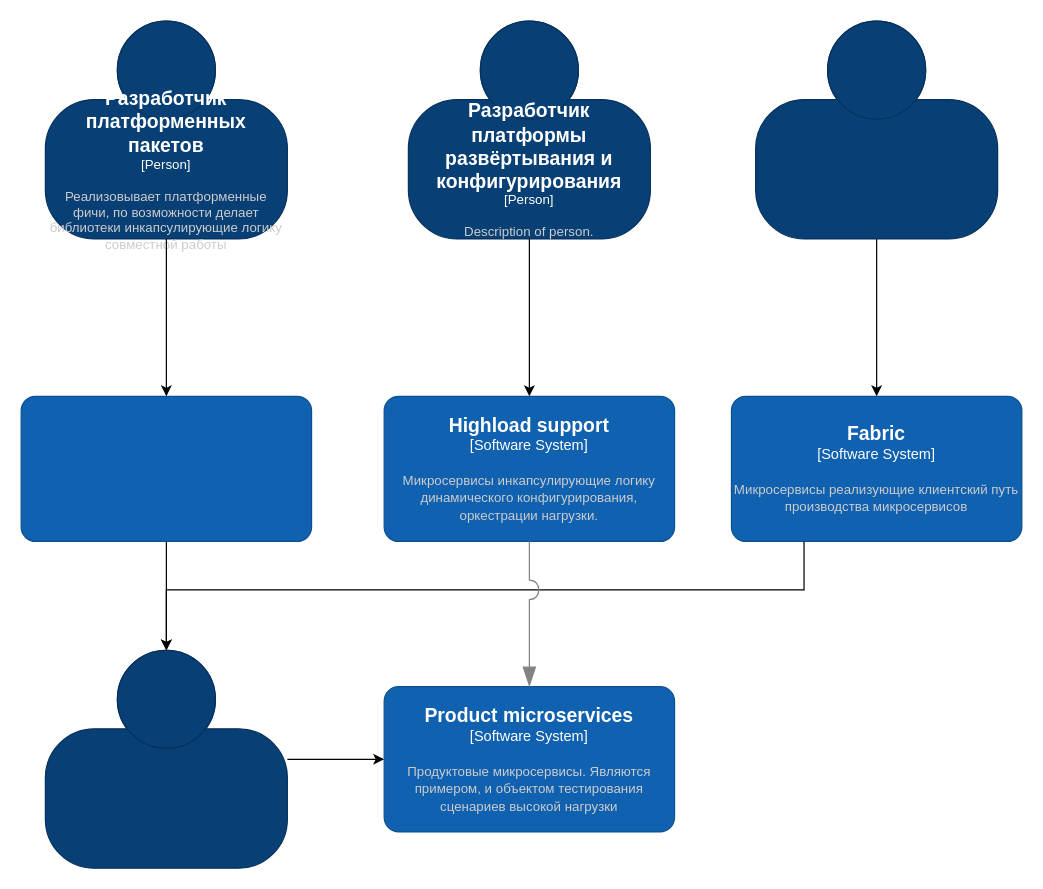
Some shapes in this 1043 by 889 pixel diagram are drawn without their labels. Here are the shapes that lost their labels. From the top down, the centre of each, then its label:
At [876,129]: "Разработчик платформы автоматизации [Person] Description of person.".
At [166,468]: "Libraties [Software System] Библиотеки инкапсулирующие логику микрослужб".
At [165,758]: "Разработчик продукта [Person] Description of person.".
